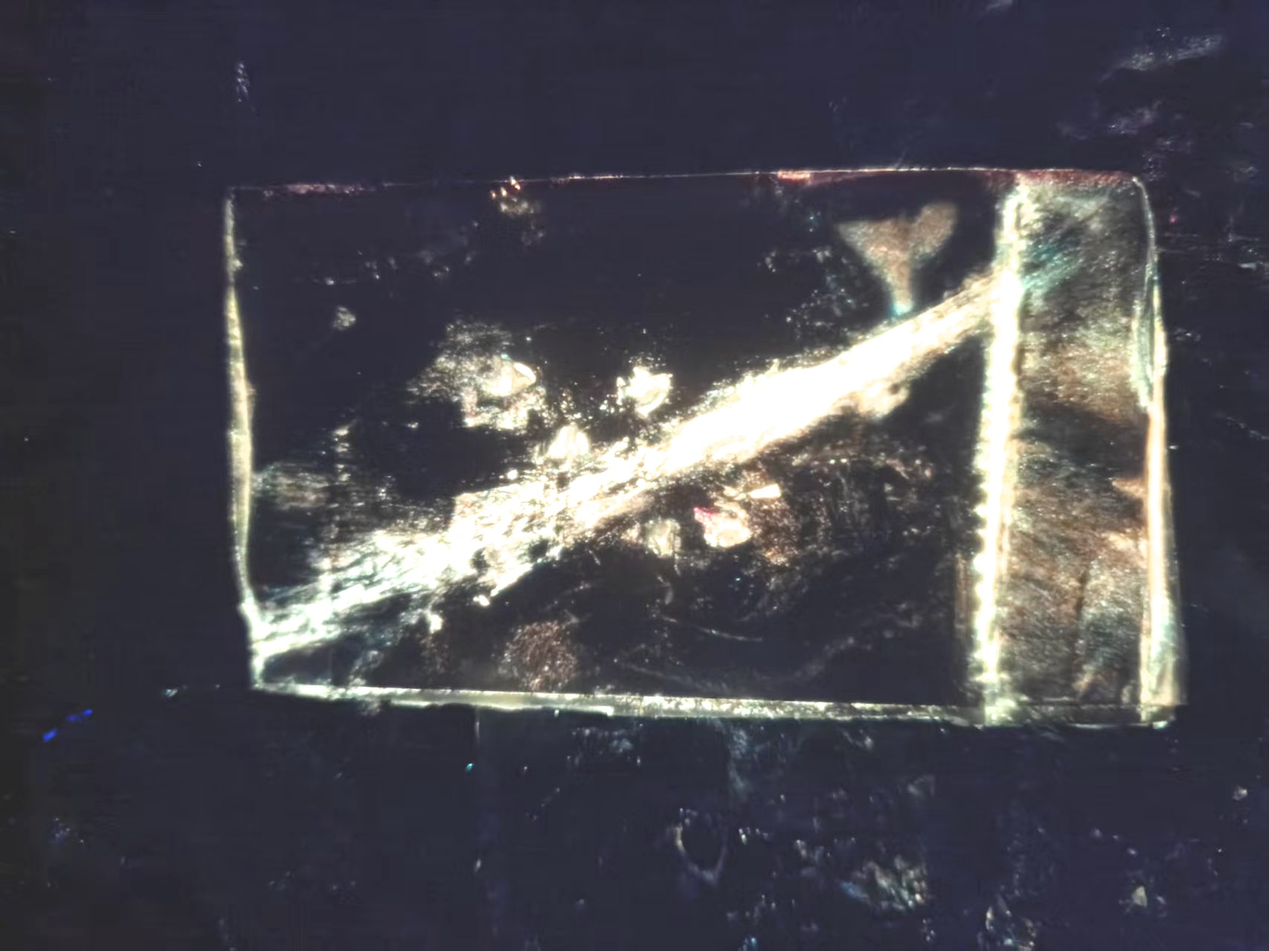Crater: (655, 479, 803, 577), (439, 347, 550, 437), (575, 351, 695, 432)
Fissure: (208, 249, 1063, 693), (947, 172, 1066, 744)
